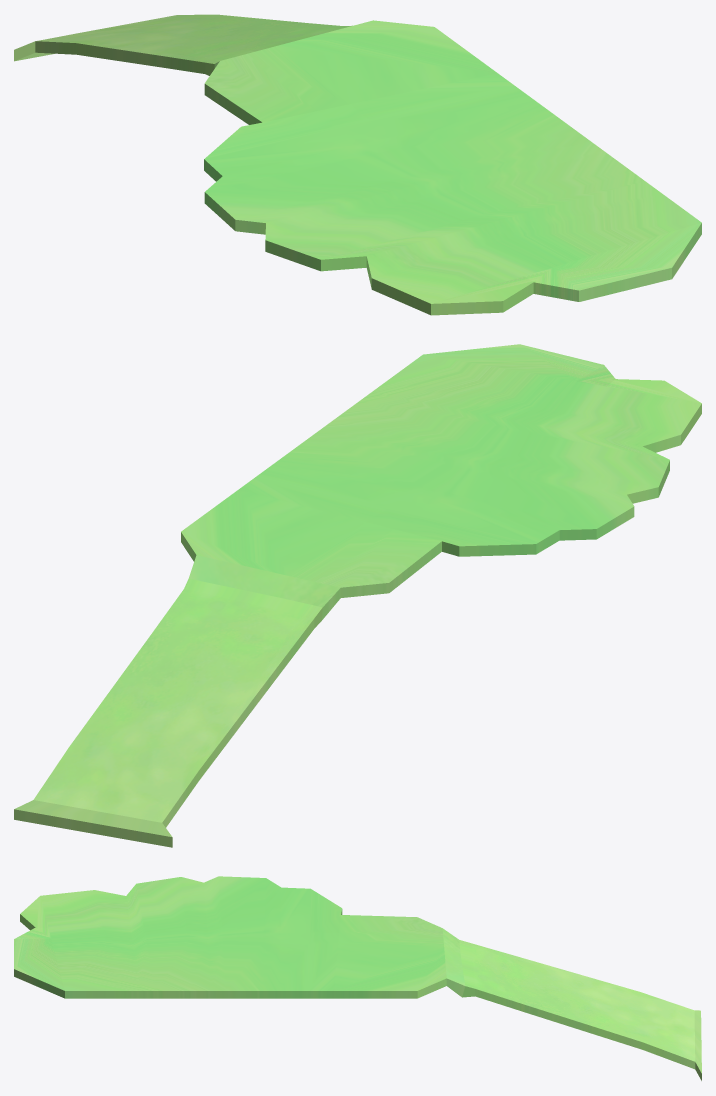
The model's file is Temple_Terrain_upper0.fbx.
3 views of the same model, one above another, from view 1: azimuth 30°, elevation 25°; view 2: azimuth 150°, elevation 25°; view 3: azimuth 270°, elevation 25° (orthographic). The views are drawn at different scales.
Visible parts, largest first — view 1: Terrain0_Upper; view 2: Terrain0_Upper; view 3: Terrain0_Upper.
Part boxes in pixels (<box>): Terrain0_Upper: <box>14,14,701,315</box>; Terrain0_Upper: <box>14,344,701,847</box>; Terrain0_Upper: <box>14,876,701,1080</box>.
Bounding box in the file's own units: 2742 × 1167 × 7079.
1 material, 1 textured.
